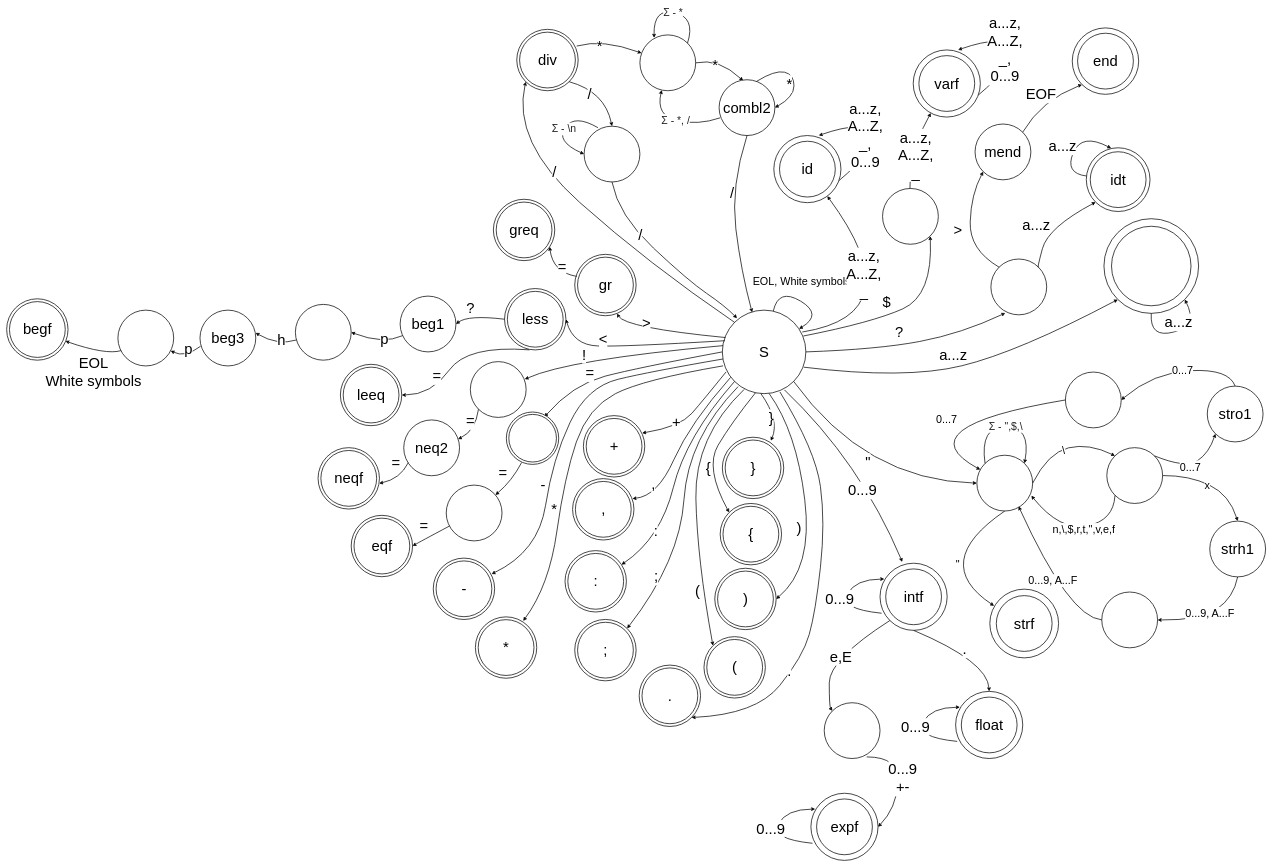
Image size: 1272x867. Some labels were removed from this diagram. The shapes that lost their labels are listed below. From the top down, each one's centre as x and y in pixels, then its label:
At pixel 667 62: "combl1".
At pixel 612 154: "com".
At pixel 910 216: "var1".
At pixel 1018 286: "qm".
At pixel 1151 266: "key_or_idt".
At pixel 145 338: "beg4".
At pixel 323 332: "beg2".
At pixel 498 389: "neq1".
At pixel 1093 400: "stro2".
At pixel 532 438: "eq1".
At pixel 1004 483: "str".
At pixel 1134 475: "str1".
At pixel 474 513: "eq2".
At pixel 1129 619: "strh2".
At pixel 852 730: "exp".
